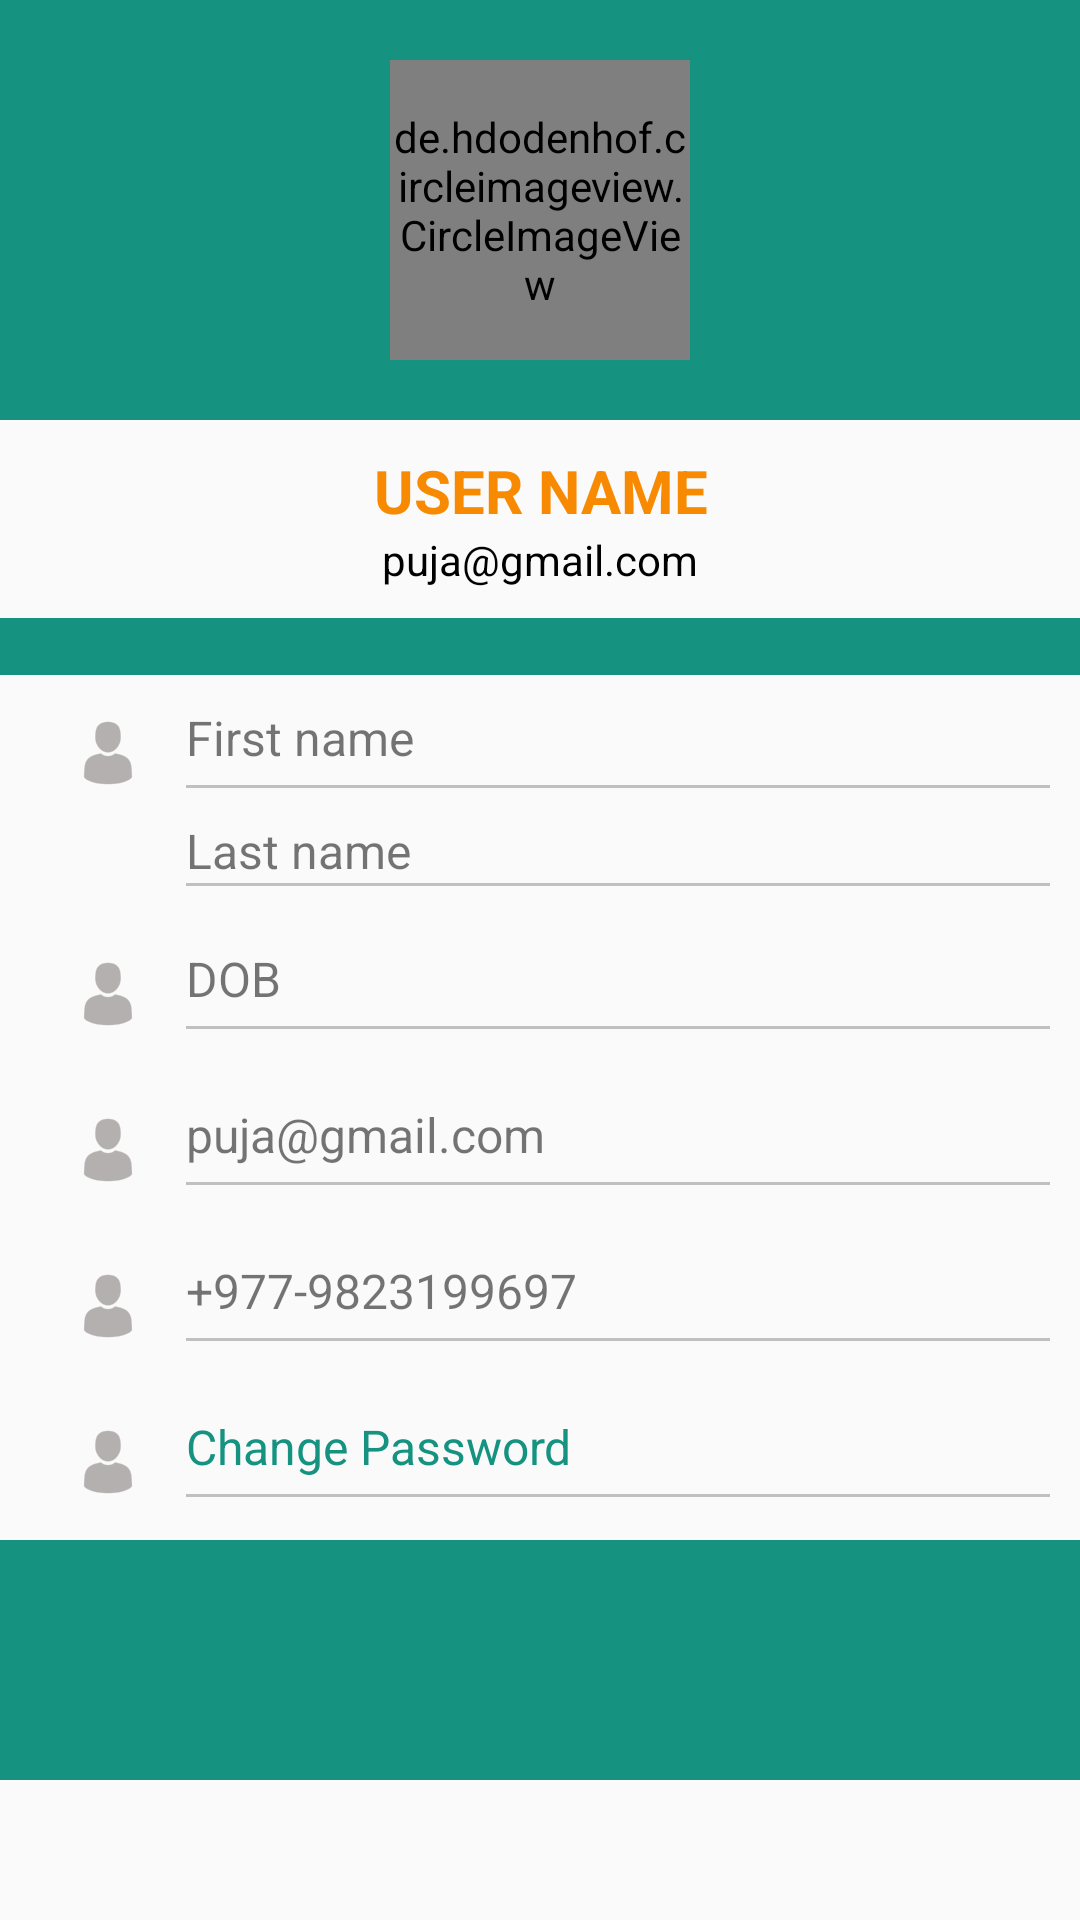

Named icons in this screenshot (1080px x 1920px) and their bounding boxes, rect(x1, y1, x2, y2):
man user: rect(84, 722, 132, 784), rect(84, 963, 132, 1025), rect(84, 1119, 132, 1181), rect(84, 1275, 132, 1337), rect(84, 1431, 132, 1493)
